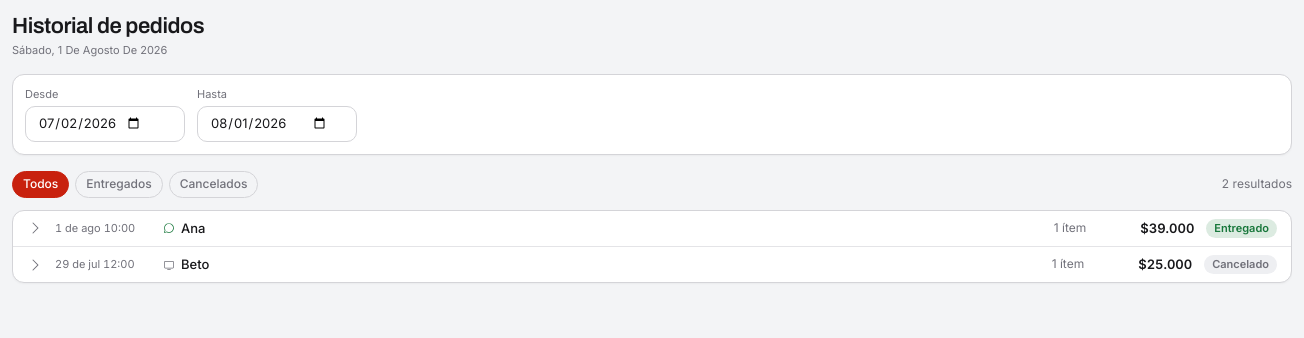
Scenario: TabHistorialServicios — restaurante (pedidos) › expandir una fila muestra el detalle de ítems
Expected: the text "Ana" is shown, [181,219,205,238]
Click the button with aria-label "Pedido 1".
click(95, 228)  # box [13,211,1291,246]
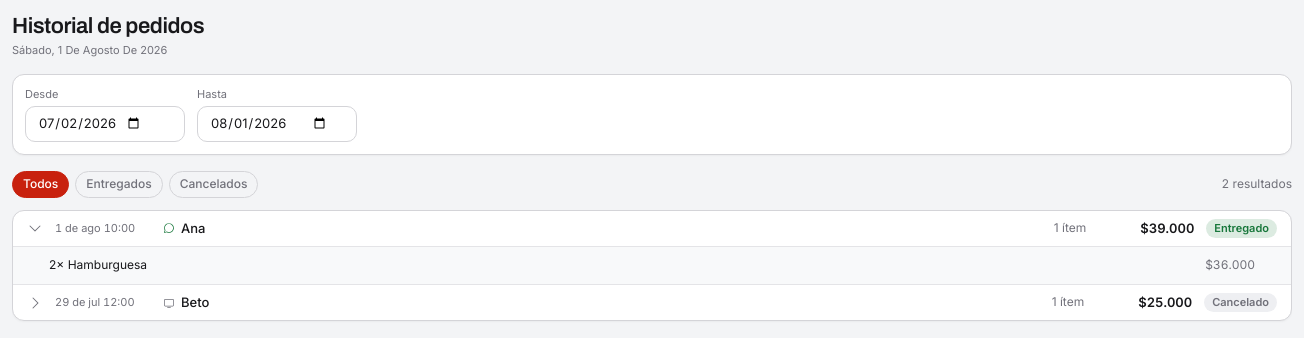
Now the text "2× Hamburguesa" is shown, box [49,257,147,274]
